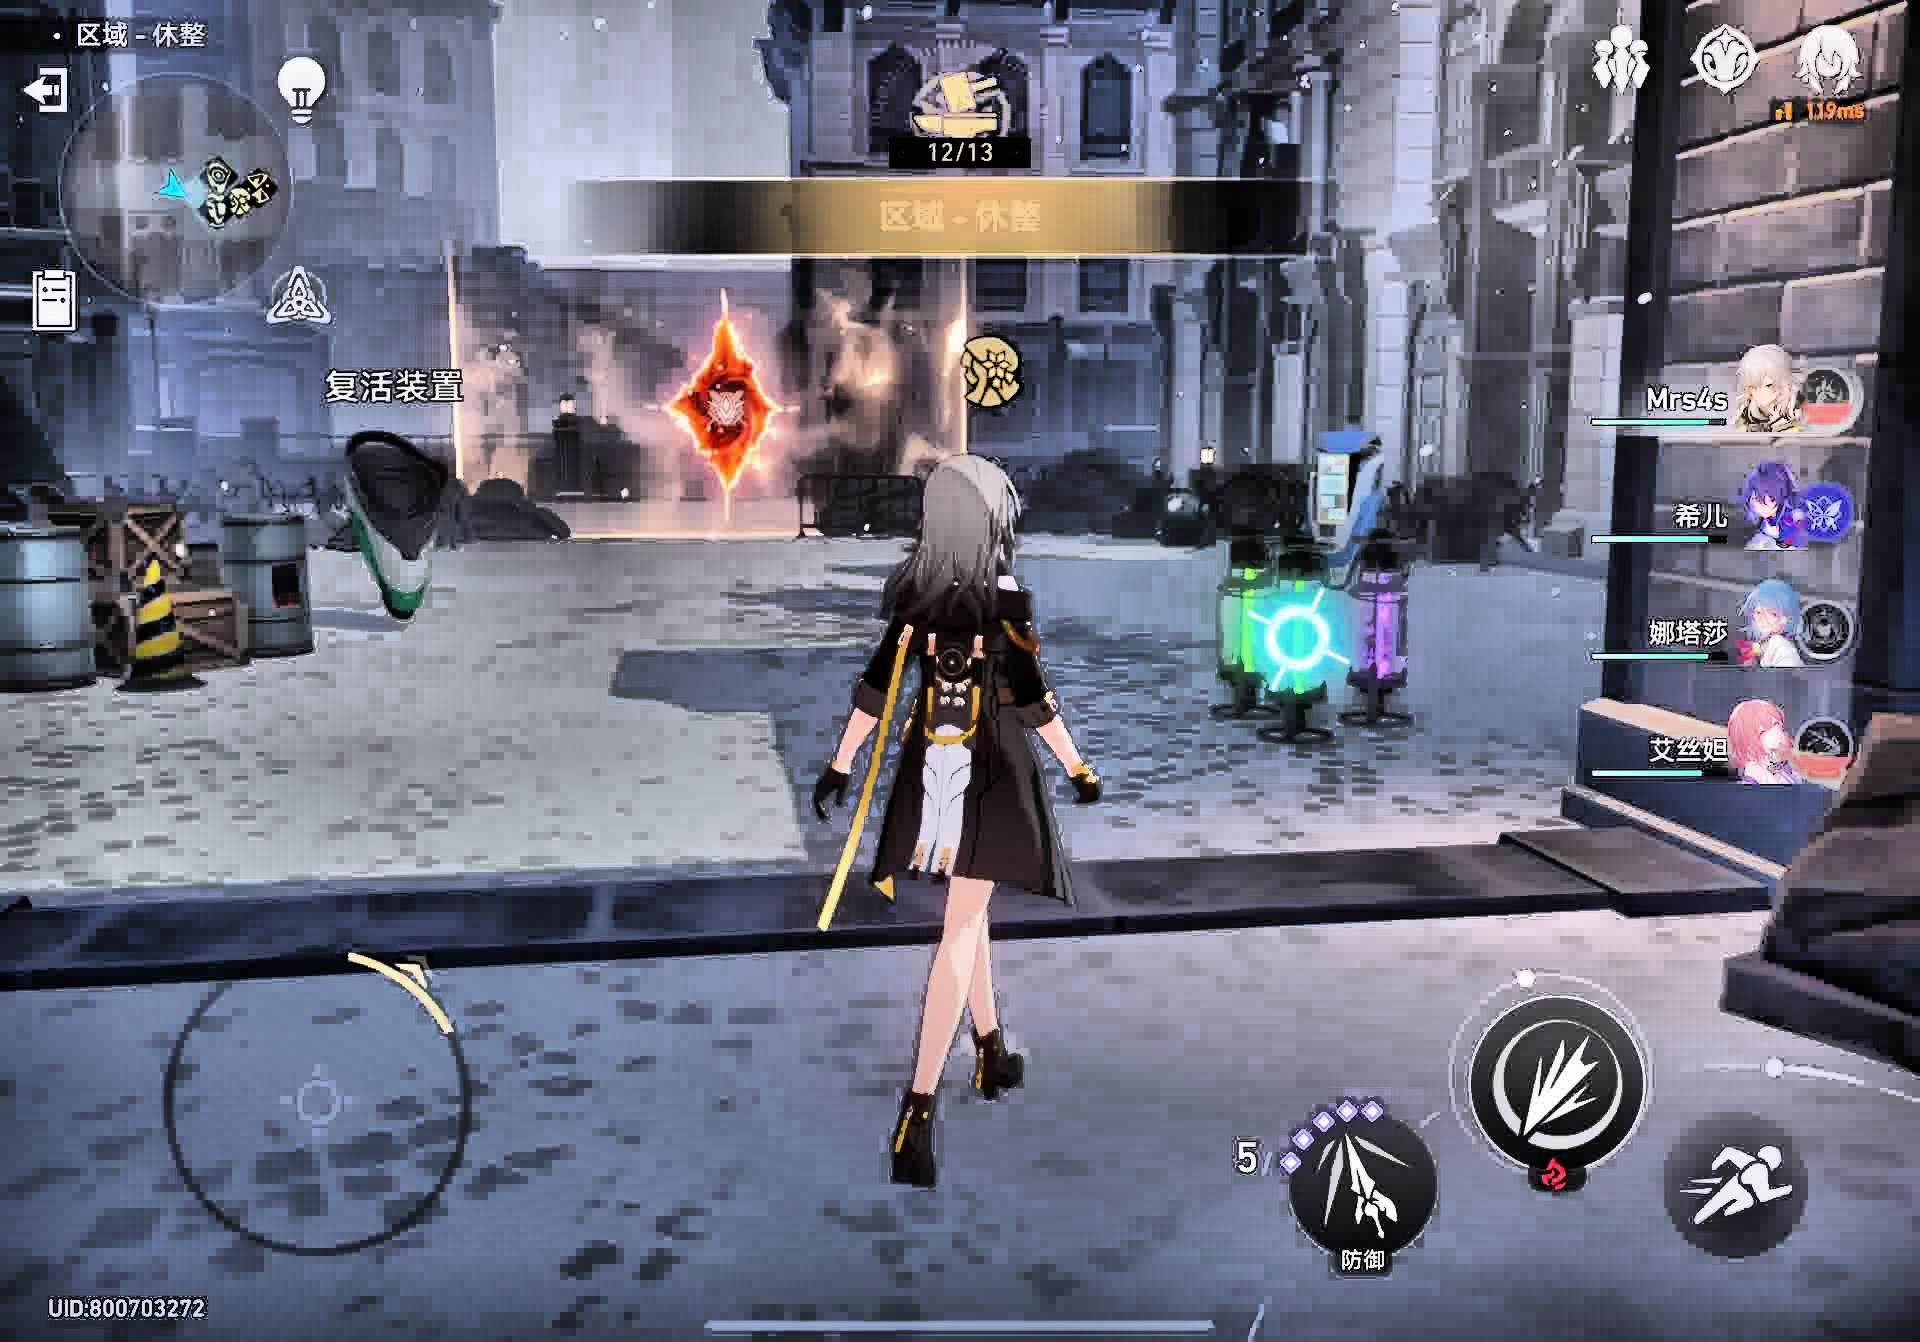BattleDoor: (668, 322, 795, 515)
Self: (816, 457, 1109, 1201)
